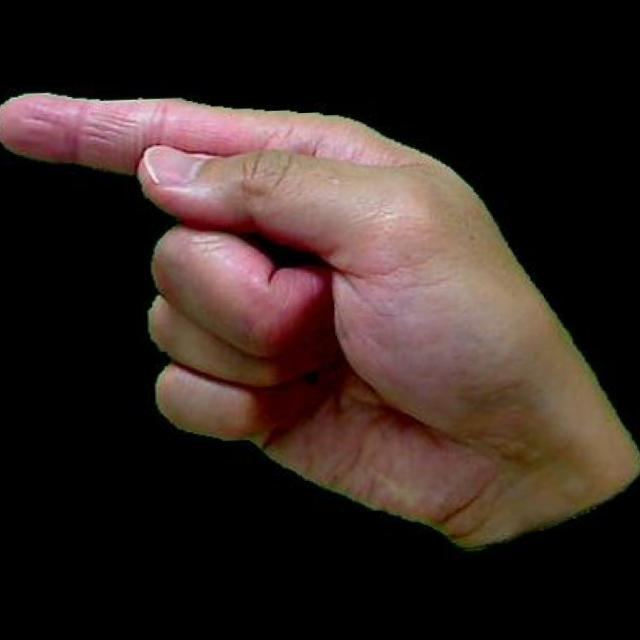g: (0, 62, 640, 572)
